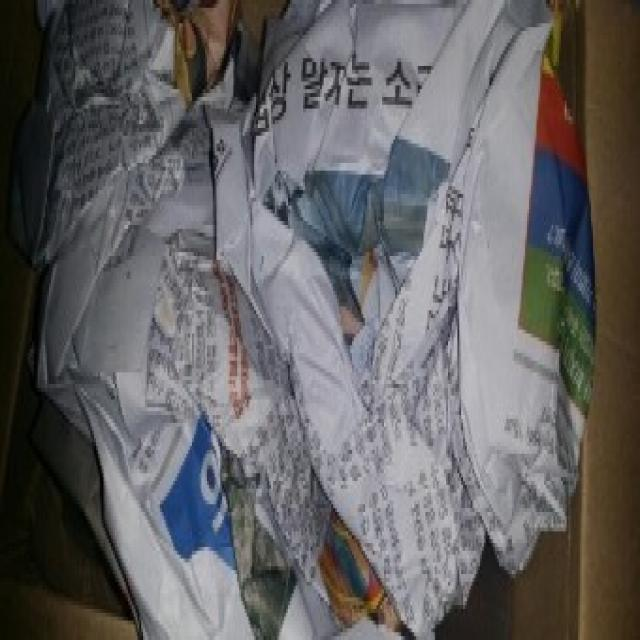Newspaper: (37, 93, 600, 640)
